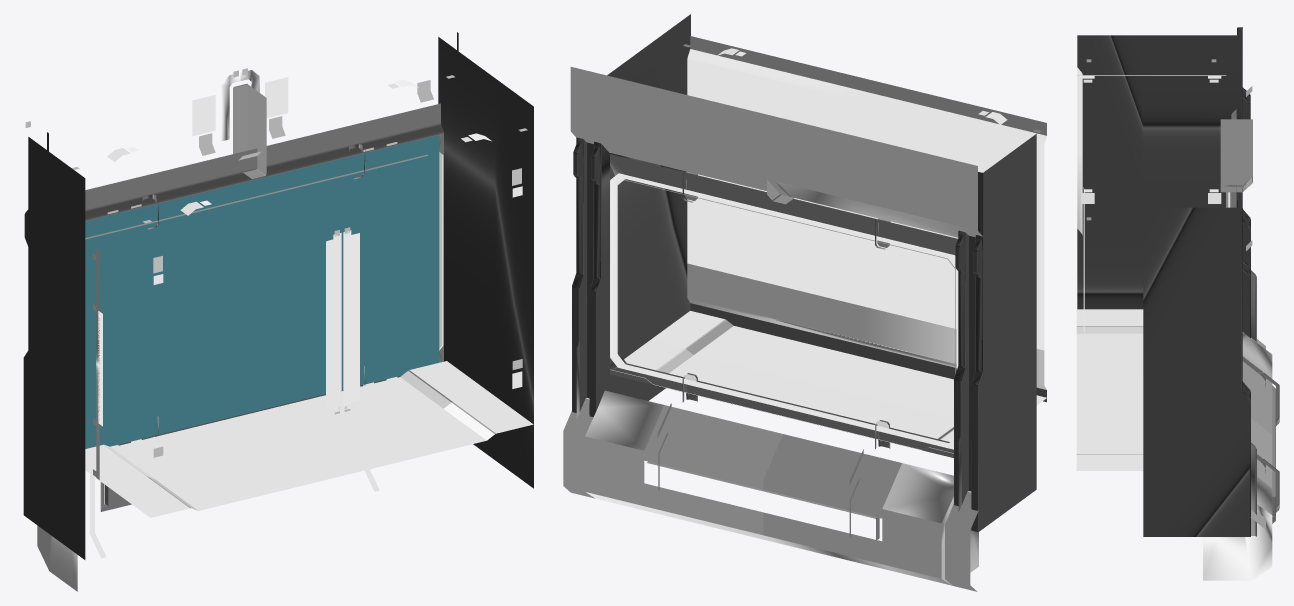
File: roomlg_wall_straight_base_shopwindow_04x01x04_b.glb
3 renders of one model, left to right at view 1: azimuth 30°, elevation 25°; view 2: azimuth 150°, elevation 25°; view 3: azimuth 270°, elevation 25°, orthographic. The views are drawn at different scales.
Bounding box in the file's own units: 4 × 4 × 1.87.
